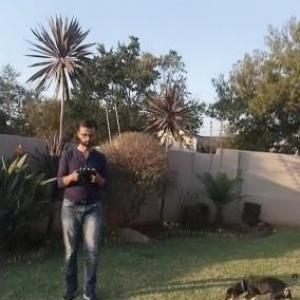follow: (53, 114, 110, 299)
null: (221, 271, 299, 299)
